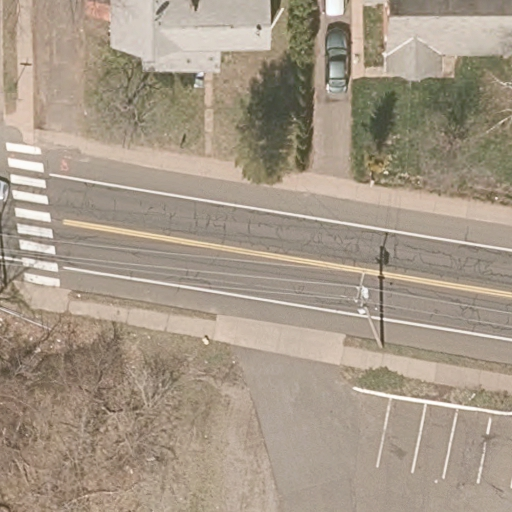DT: (352, 270, 385, 351)
